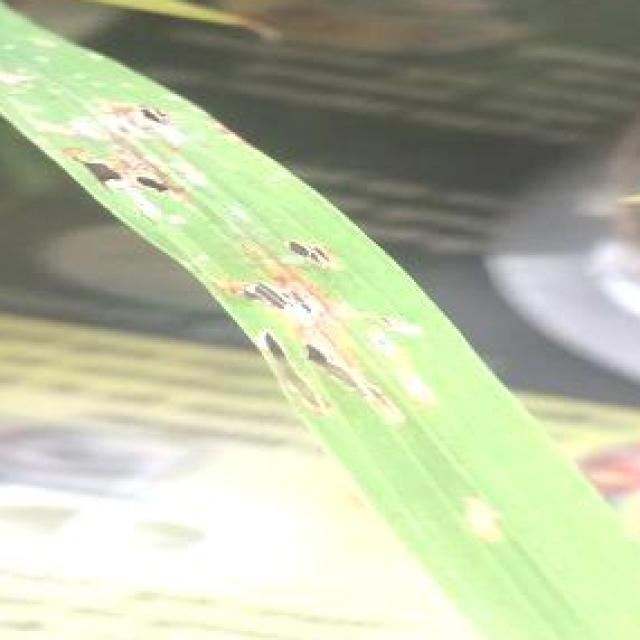Leaf_Blast: (264, 331, 400, 425), (76, 143, 186, 253), (82, 54, 192, 164), (228, 273, 334, 333), (257, 222, 345, 280)
